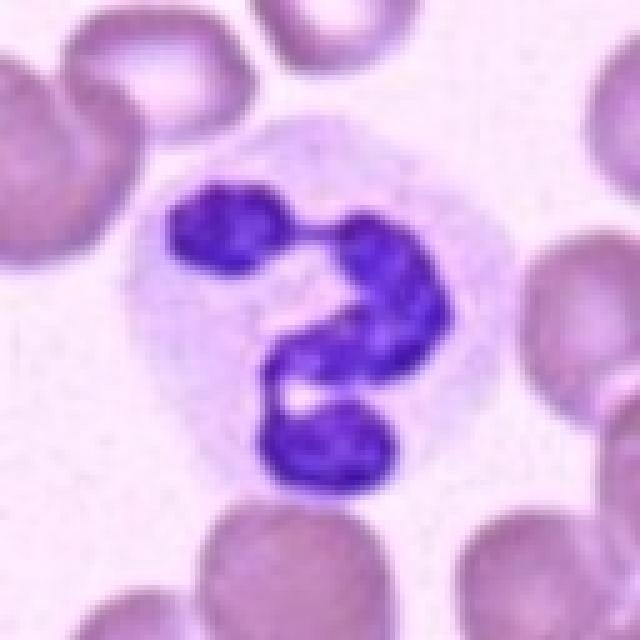neutro: (154, 85, 546, 490)
